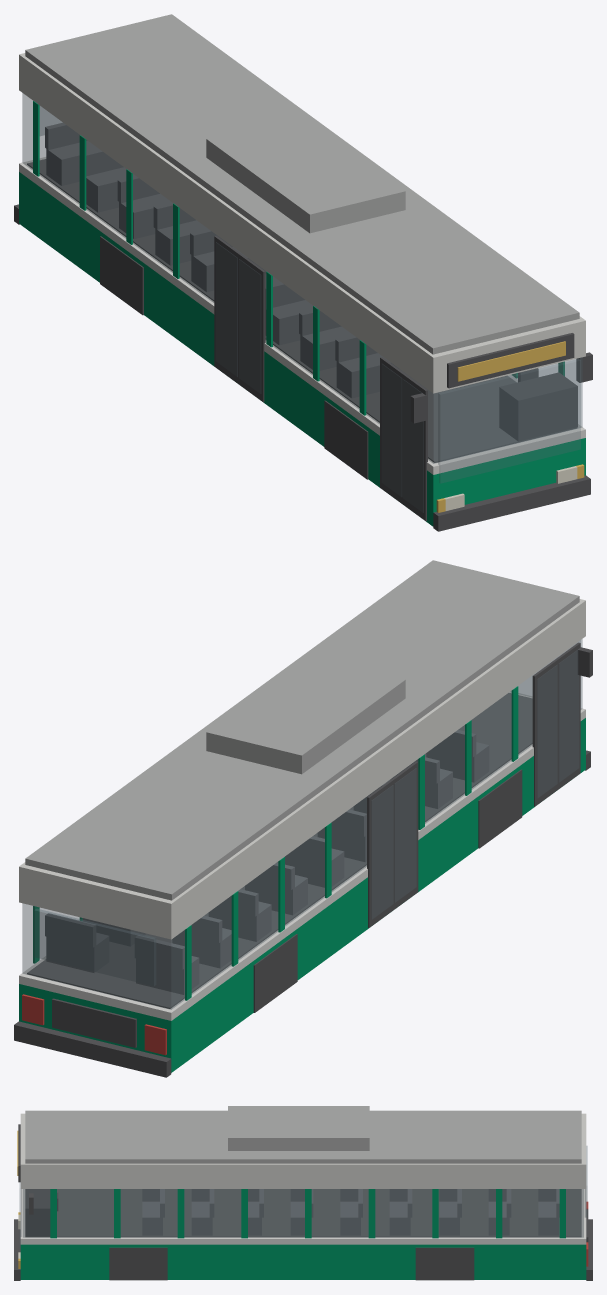
The model's file is bus_body.glb.
The picture shows the model from 3 angles, top to bottom: view 1: azimuth 30°, elevation 25°; view 2: azimuth 150°, elevation 25°; view 3: azimuth 270°, elevation 25°; orthographic projection. The views are drawn at different scales.
Visible parts, largest first — view 1: verda_bus; view 2: verda_bus; view 3: verda_bus.
Boxes of the visible parts, x1,y1,x2,y2 form: verda_bus: (14, 14, 592, 531); verda_bus: (14, 560, 592, 1077); verda_bus: (14, 1106, 592, 1280).
Size of the model in its own units: 2.99 by 3.12 by 12.28.
